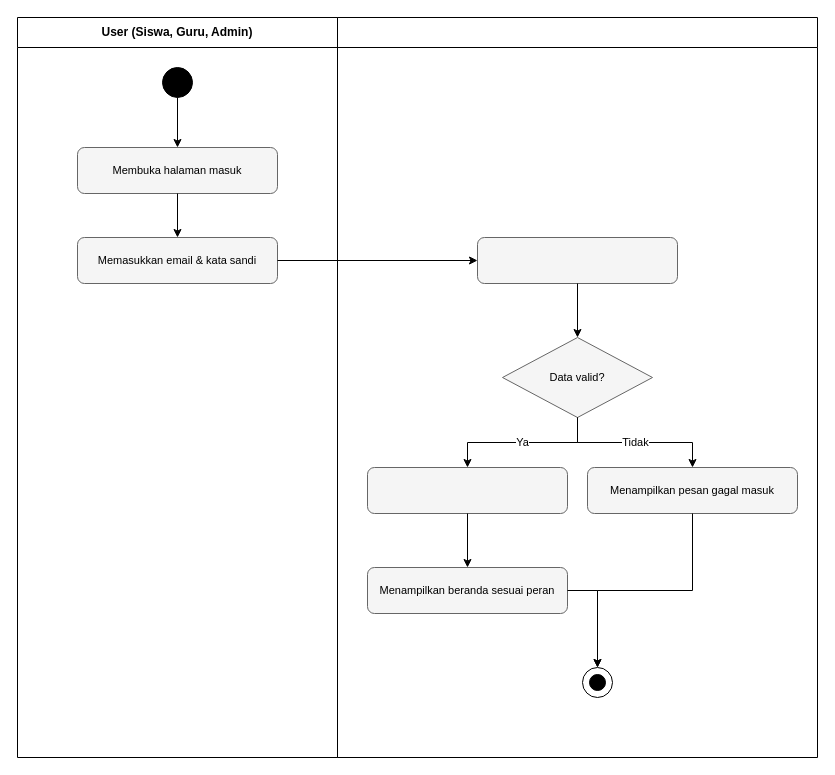
Some shapes in this 835 by 775 pixel diagram are drawn without their labels. The shapes that lost their labels are listed below. From the top down, each one's box as (x1, y1, x2, y2) in pixels, then its label:
(476, 236, 678, 284): Memverifikasi data pengguna
(336, 16, 818, 758): Sistem
(366, 466, 568, 514): Membuat sesi pengguna
